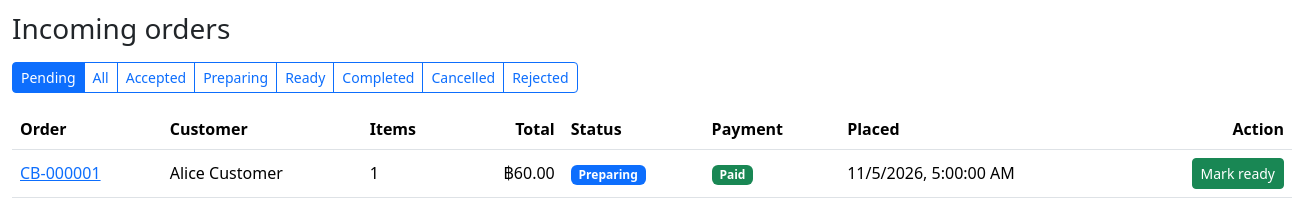
Scenario: OperatorOrders fulfilment actions (AC-86) › TEST-86: Mark ready reloads the list when the active filter no longer matches
The width and height of the screenshot is (1292, 215).
Expected: the link "CB-000001" is shown, [20, 162, 101, 184]
Click the button "Preparing".
click(236, 77)  # box [194, 62, 277, 93]
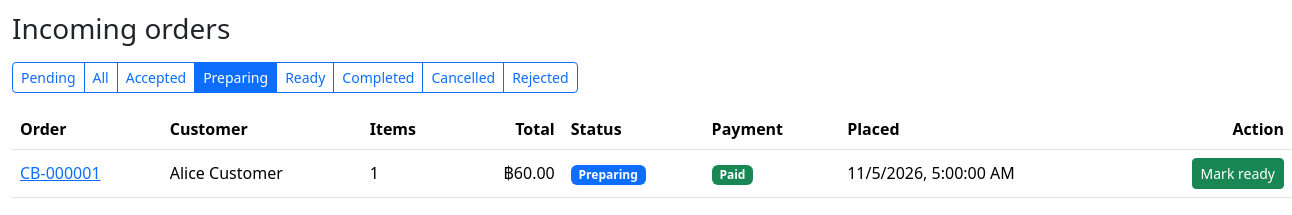
Click the button "Mark ready".
click(1238, 173)  # box [1192, 158, 1284, 189]
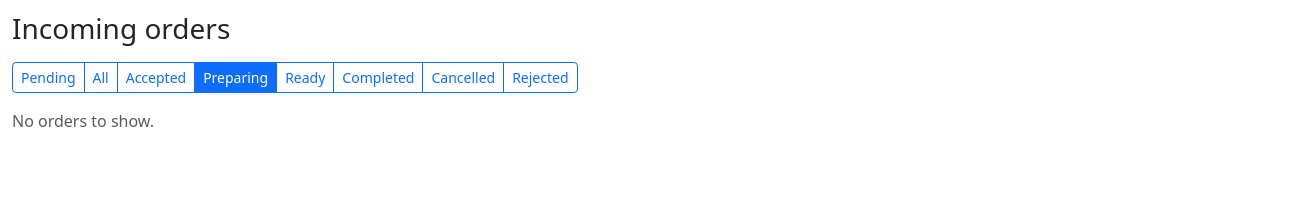
Now the text "No orders to show." is shown, box [12, 110, 154, 132]
